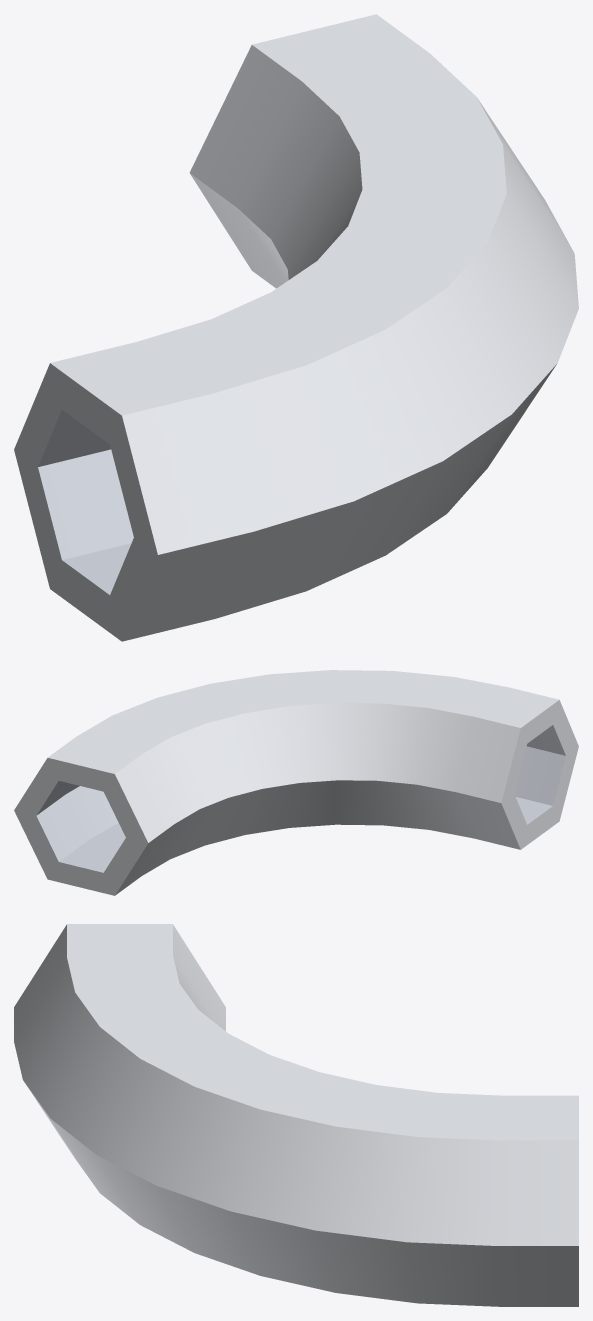
Rendered from pipe_cornerRoundLarge.glb.
The picture shows the model from 3 angles, top to bottom: view 1: azimuth 30°, elevation 25°; view 2: azimuth 150°, elevation 25°; view 3: azimuth 270°, elevation 25°; orthographic projection. The views are drawn at different scales.
Visible parts, largest first — view 1: pipe_cornerRoundLarge; view 2: pipe_cornerRoundLarge; view 3: pipe_cornerRoundLarge.
Part boxes in pixels (x1,y1,x2,y2): pipe_cornerRoundLarge: (14, 14, 578, 641); pipe_cornerRoundLarge: (14, 670, 578, 895); pipe_cornerRoundLarge: (14, 924, 578, 1306).
Bounding box in the file's own units: 1.85 × 0.6 × 1.85.
Materials: 1 (1 with a texture image).
